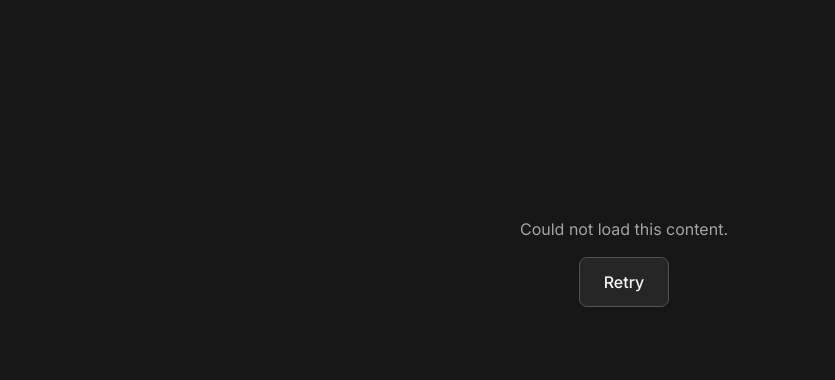
Test: Projects › shows the load error with a retry button instead of the empty text when the API fails
Check: the text "Could not load this content." is shown, box [520,219,728,239]
Click the button "Retry" at (624, 282), box [579,257,669,307]
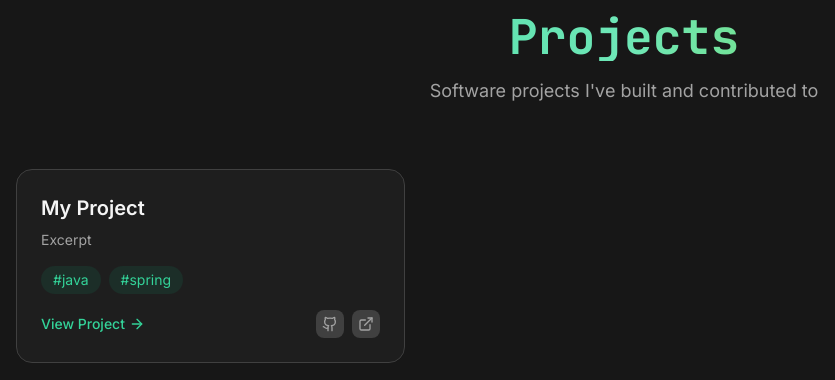
Check: the link "My Project" is shown, box [41,196,145,220]
Check: the text "Could not load this content." is gone
